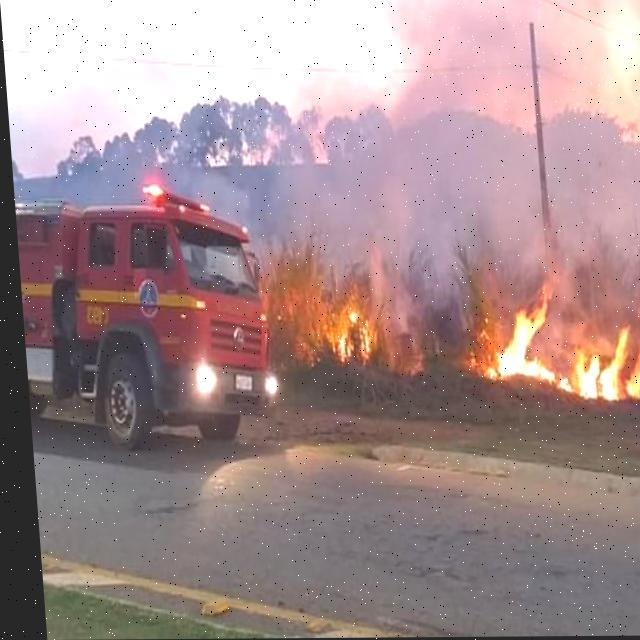Fire: (549, 320, 639, 401), (477, 293, 552, 382), (330, 314, 366, 362)
